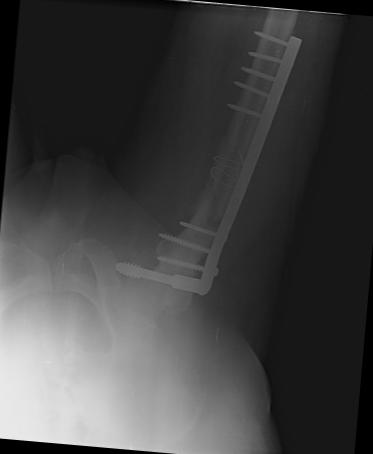fractured: (188, 173, 232, 232)
